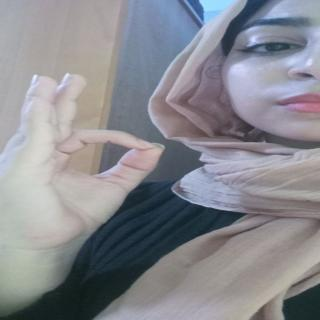Space: (11, 74, 180, 248)
